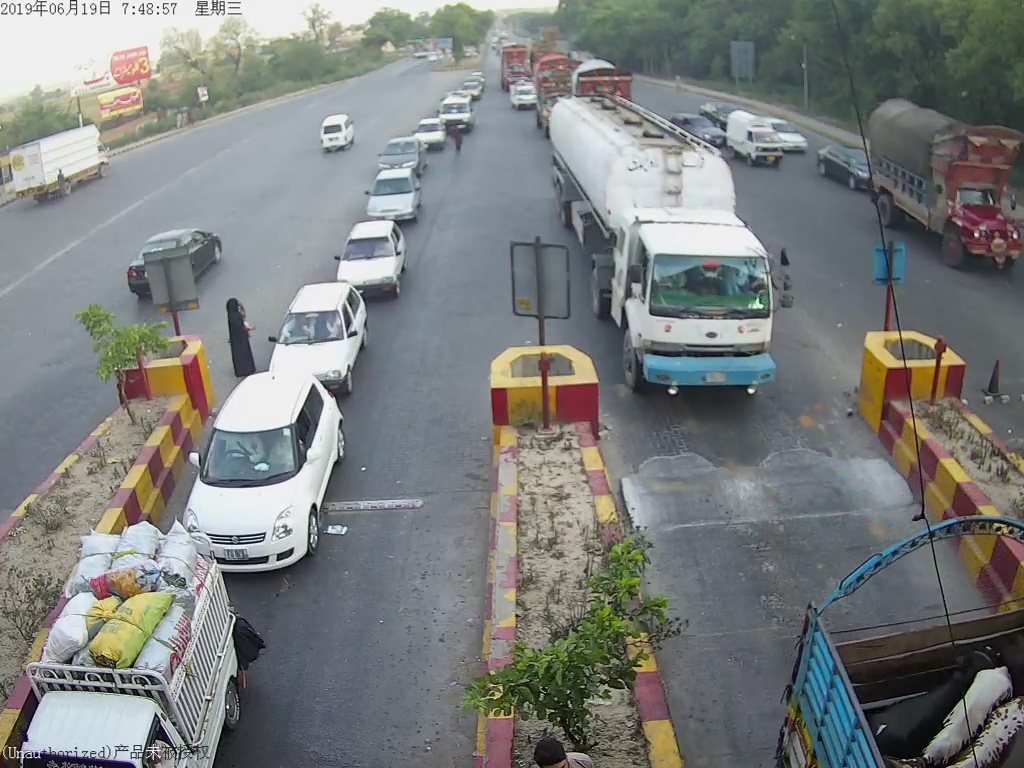Cat-1: (179, 368, 345, 566), (264, 282, 376, 390), (333, 220, 410, 299), (358, 167, 426, 225)
Cat-5: (551, 91, 803, 395)
